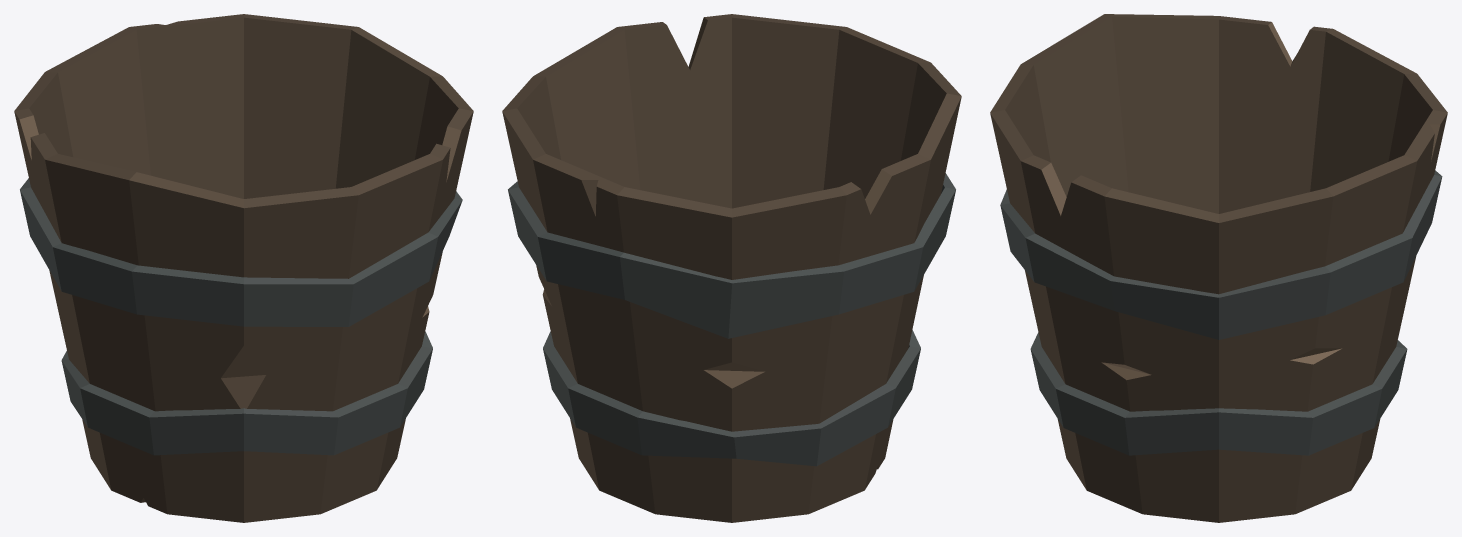
The model's file is Bucket_1_Brown.fbx.
The picture shows the model from 3 angles, left to right: view 1: azimuth 30°, elevation 25°; view 2: azimuth 150°, elevation 25°; view 3: azimuth 270°, elevation 25°; orthographic projection.
Visible parts, largest first — view 1: Bucket_1_Brown_Part_1, Bucket_1_Brown_Part_3, Bucket_1_Brown_Part_2; view 2: Bucket_1_Brown_Part_1, Bucket_1_Brown_Part_3, Bucket_1_Brown_Part_2; view 3: Bucket_1_Brown_Part_1, Bucket_1_Brown_Part_3, Bucket_1_Brown_Part_2.
Boxes of the visible parts, box(x1,y1,x2,y2) form: Bucket_1_Brown_Part_1: box(14, 14, 473, 522); Bucket_1_Brown_Part_3: box(20, 178, 462, 455); Bucket_1_Brown_Part_2: box(19, 115, 461, 502); Bucket_1_Brown_Part_1: box(502, 14, 961, 522); Bucket_1_Brown_Part_3: box(508, 173, 955, 466); Bucket_1_Brown_Part_2: box(542, 17, 891, 469); Bucket_1_Brown_Part_1: box(990, 14, 1447, 522); Bucket_1_Brown_Part_3: box(1000, 170, 1442, 455); Bucket_1_Brown_Part_2: box(1041, 22, 1440, 380).
Size of the model in its own units: 60 by 52.54 by 60.
